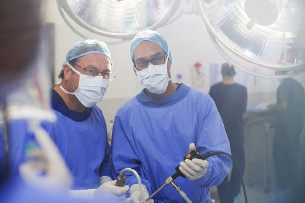Mask: (74, 62, 118, 106)
